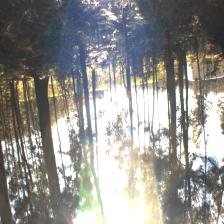trunktrack_idkeyframe: (33, 76, 60, 191), (164, 58, 176, 141), (178, 49, 188, 142), (78, 49, 90, 108), (126, 62, 133, 121), (91, 70, 97, 122)
